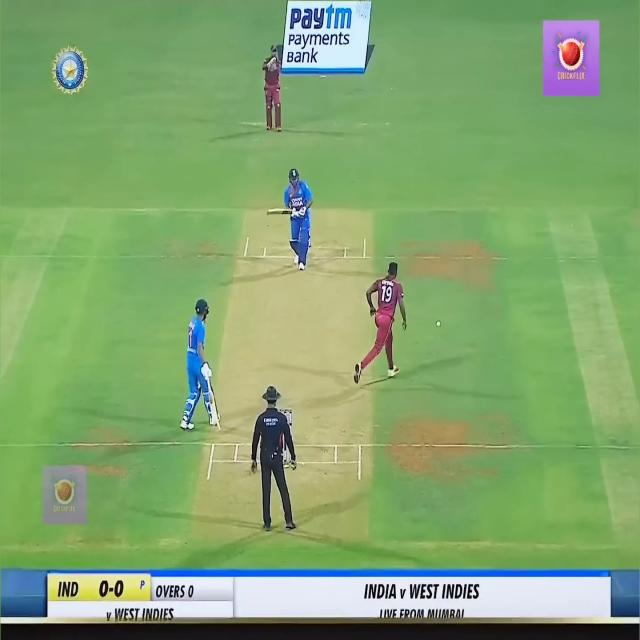fully_visible: (287, 3, 357, 32)
